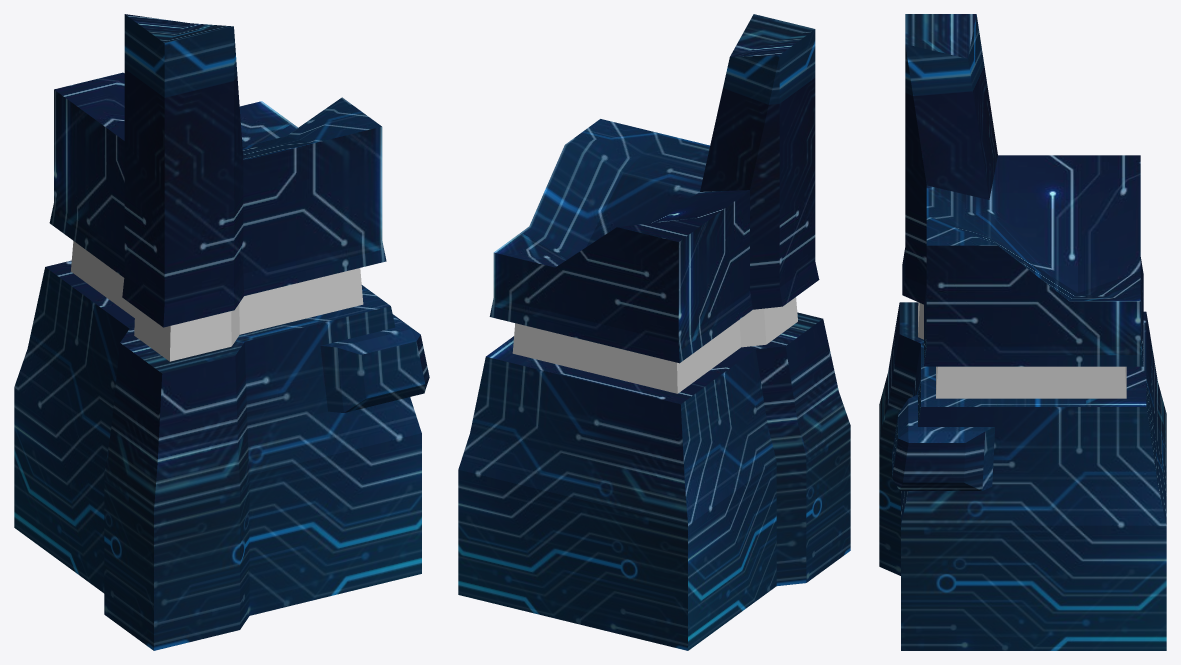
File: Block04.fbx
The picture shows the model from 3 angles, left to right: view 1: azimuth 30°, elevation 25°; view 2: azimuth 150°, elevation 25°; view 3: azimuth 270°, elevation 25°; orthographic projection. The views are drawn at different scales.
Parts seen in each view (by area): view 1: Cube.001; view 2: Cube.001; view 3: Cube.001.
Boxes of the visible parts, <box> form: Cube.001: <box>14,14,429,650</box>; Cube.001: <box>458,14,850,650</box>; Cube.001: <box>879,14,1166,650</box>.
Bounding box in the file's own units: 224 × 216 × 437.
